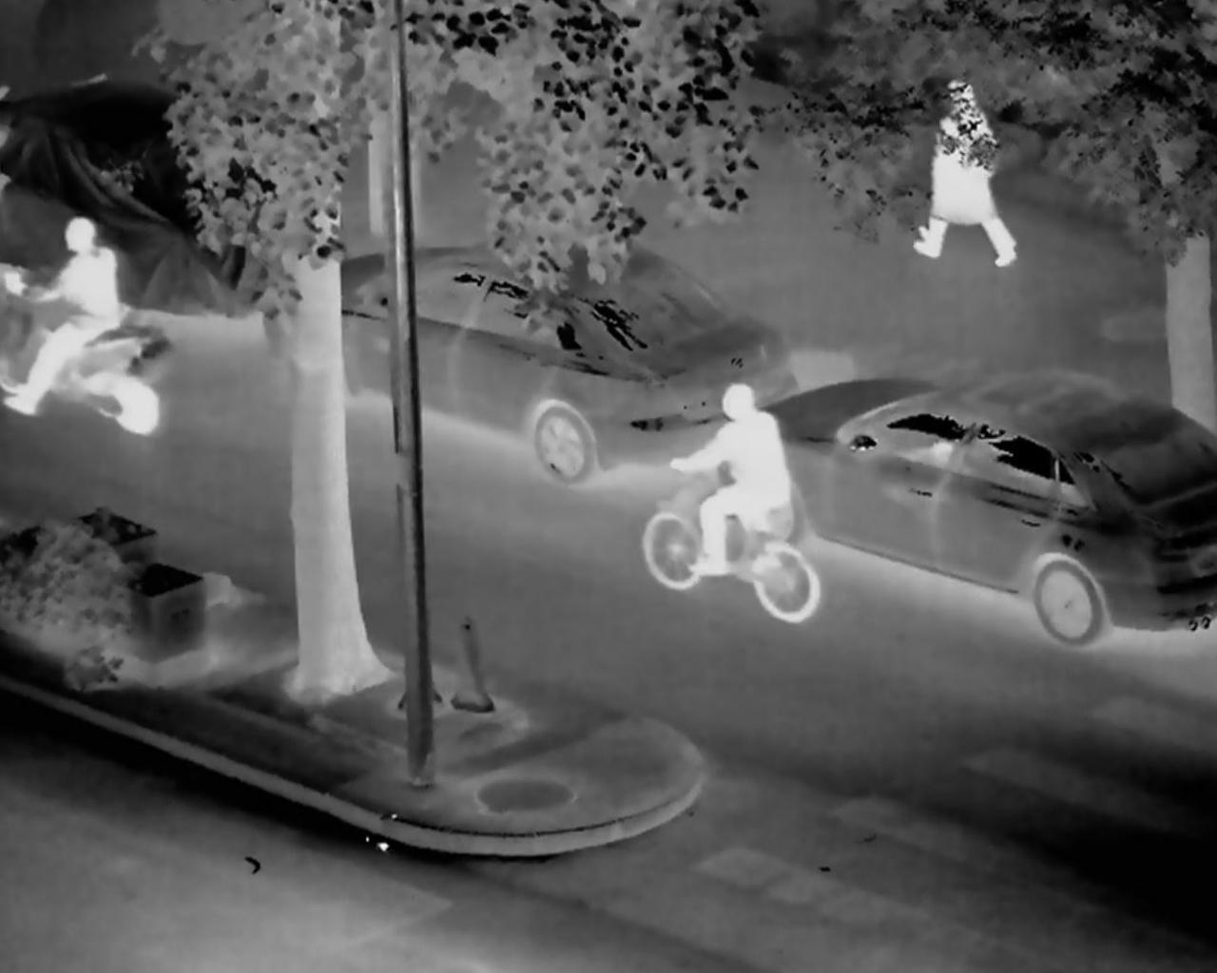person: (661, 373, 799, 582), (7, 211, 139, 429), (908, 63, 1022, 271)
